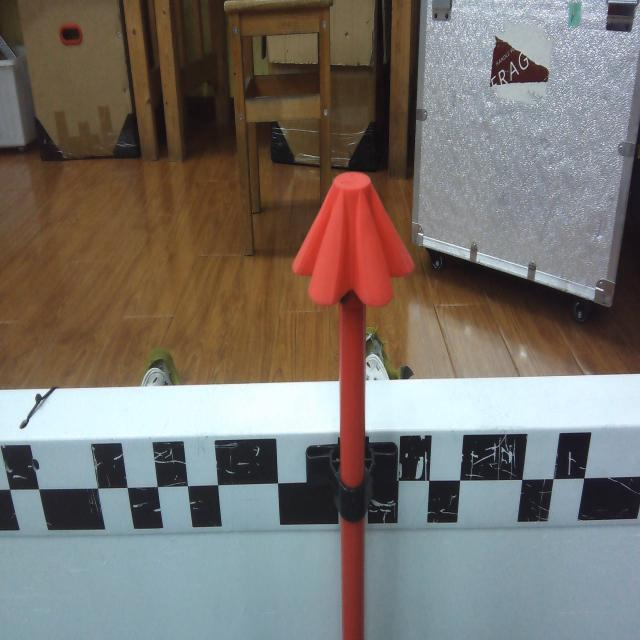zred-Stake-Head: (292, 172, 414, 307)
